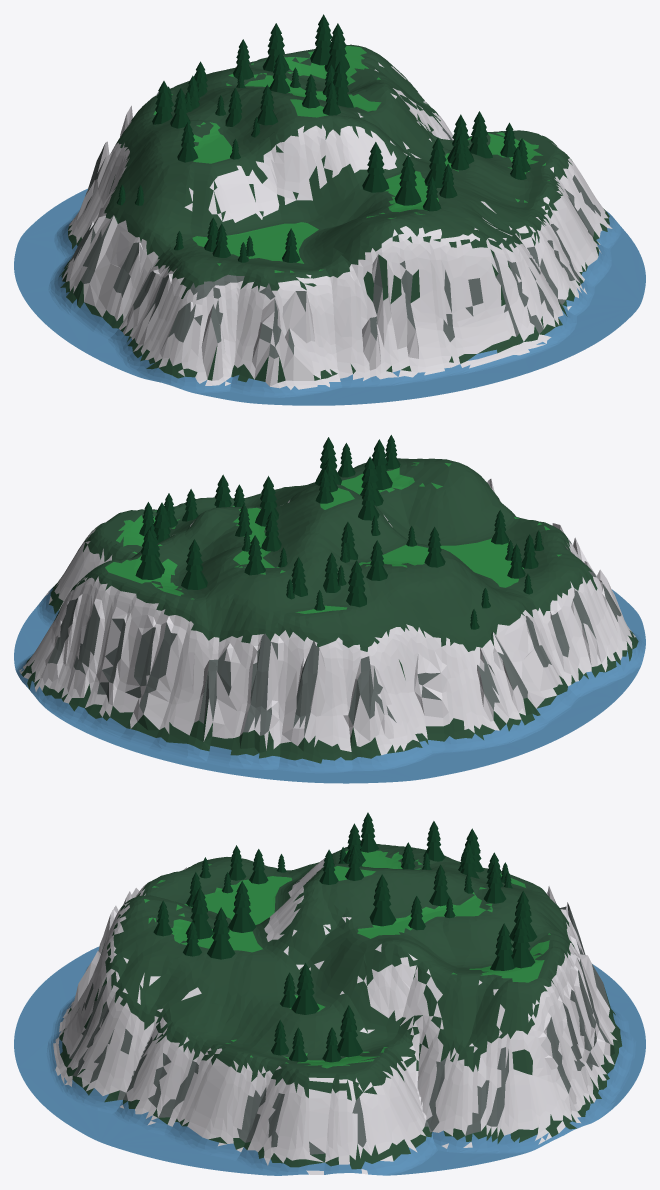
File: Insel_02.fbx
The picture shows the model from 3 angles, top to bottom: view 1: azimuth 30°, elevation 25°; view 2: azimuth 150°, elevation 25°; view 3: azimuth 270°, elevation 25°; orthographic projection. The views are drawn at different scales.
Visible parts, largest first — view 1: Cube.001; view 2: Cube.001; view 3: Cube.001.
Part boxes in pixels (bbox=[...]): Cube.001: bbox=[14, 14, 645, 405]; Cube.001: bbox=[14, 435, 645, 783]; Cube.001: bbox=[14, 812, 645, 1175].
Bounding box in the file's own units: 915 × 313 × 915.
